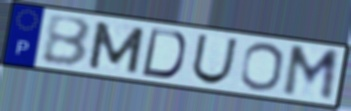B: (40, 14, 94, 69)
D: (138, 26, 188, 80)
M: (280, 43, 342, 104), (85, 19, 148, 76)
O: (238, 41, 285, 93)
U: (189, 32, 240, 86)
